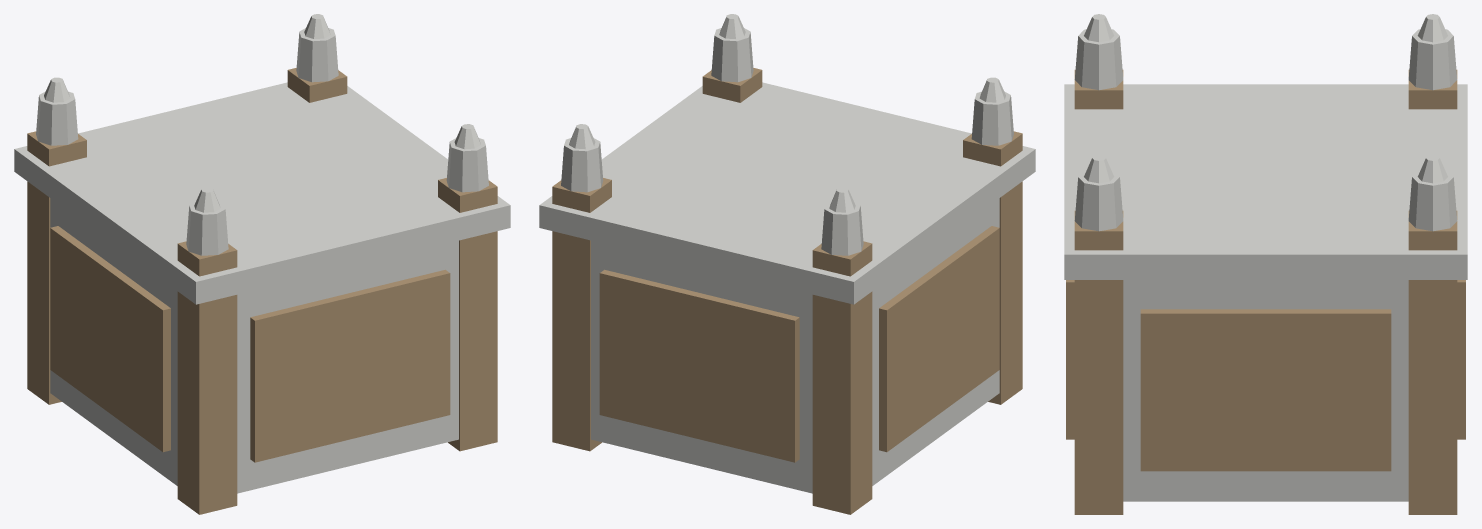
The model's file is botanical-glasshouse-and-palm-house-botanical-glasshou-c857c466.glb.
3 views of the same model, side by side, from view 1: azimuth 30°, elevation 25°; view 2: azimuth 150°, elevation 25°; view 3: azimuth 270°, elevation 25° (orthographic). The views are drawn at different scales.
Parts seen in each view (by area): view 1: botanical-glasshouse-and-palm-house-palm-planter-tub; view 2: botanical-glasshouse-and-palm-house-palm-planter-tub; view 3: botanical-glasshouse-and-palm-house-palm-planter-tub.
Boxes of the visible parts, bbox=[...] form: botanical-glasshouse-and-palm-house-palm-planter-tub: bbox=[14, 14, 510, 514]; botanical-glasshouse-and-palm-house-palm-planter-tub: bbox=[539, 14, 1035, 514]; botanical-glasshouse-and-palm-house-palm-planter-tub: bbox=[1064, 14, 1467, 514].
Bounding box in the file's own units: 1.16 × 1.1 × 1.16.
